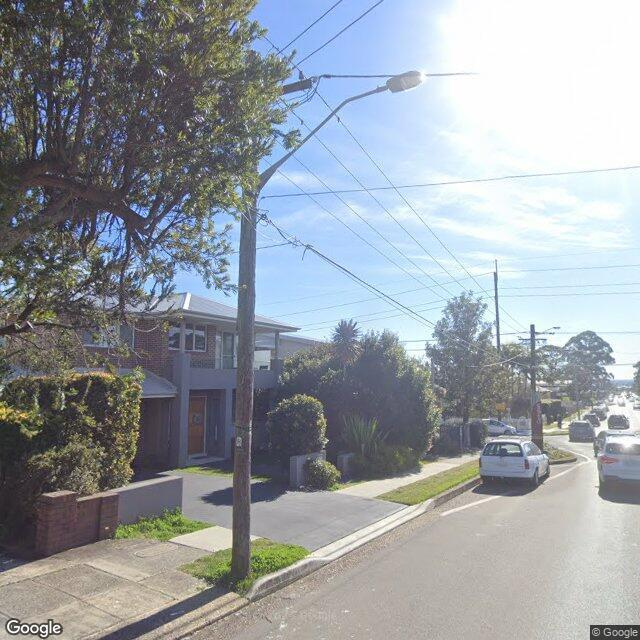crossarm: (280, 78, 314, 97), (518, 338, 548, 341)
streetlight: (255, 70, 425, 194), (533, 326, 561, 337)
timber-pole: (231, 154, 258, 580), (530, 324, 536, 404), (494, 258, 499, 350)
